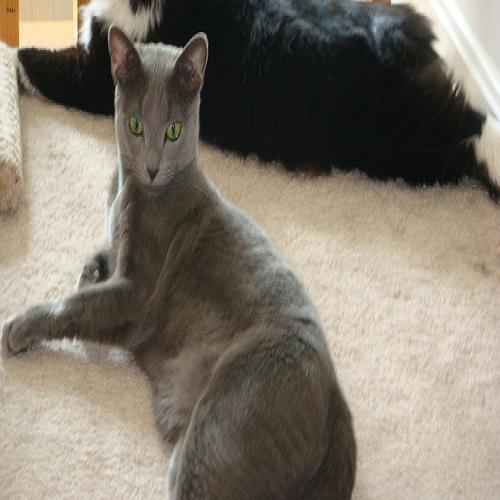rblue: (103, 15, 214, 201)
